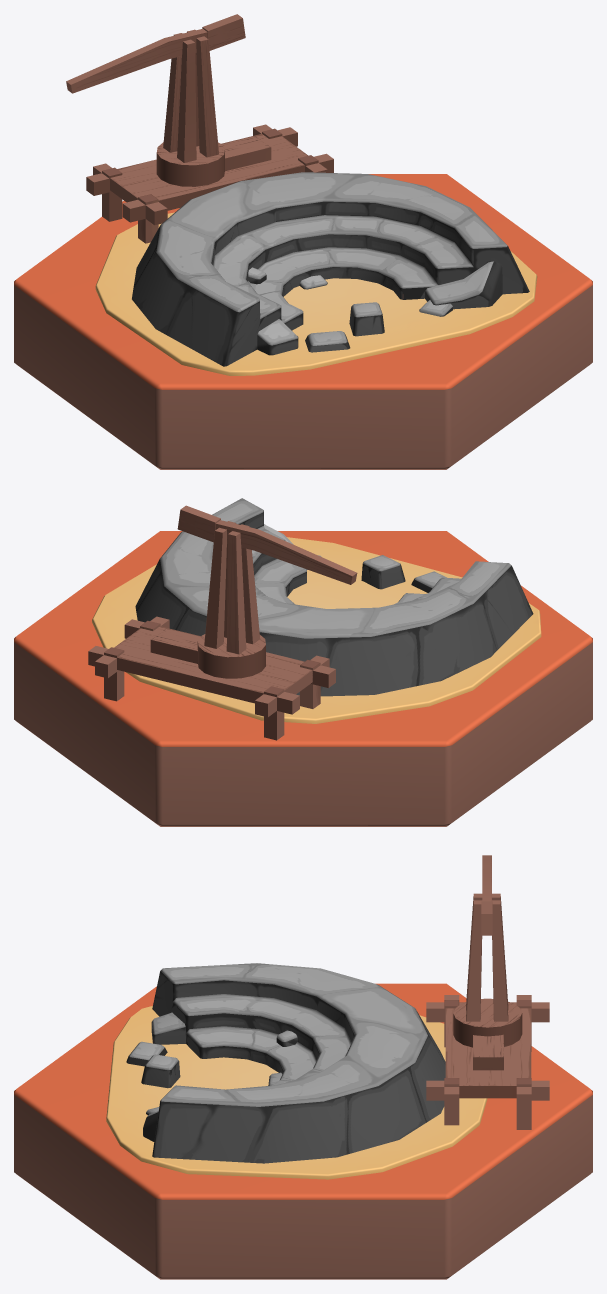
Rendered from quarry.fbx.
3 renders of one model, top to bottom at view 1: azimuth 30°, elevation 25°; view 2: azimuth 150°, elevation 25°; view 3: azimuth 270°, elevation 25°, orthographic.
Visible parts, largest first — view 1: quarry; view 2: quarry; view 3: quarry.
Part boxes in pixels (<box>): quarry: <box>14,14,592,469</box>; quarry: <box>14,498,592,826</box>; quarry: <box>14,855,592,1279</box>.
Bounding box in the file's own units: 0.1744 × 0.1046 × 0.1996.
Materials: 1 (1 with a texture image).
